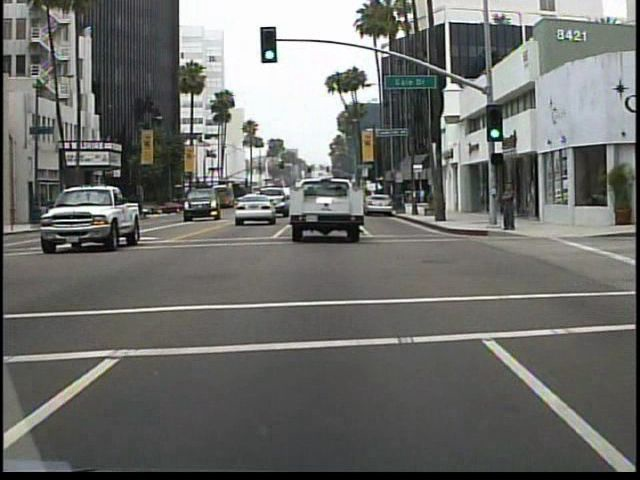person: (496, 177, 517, 236)
